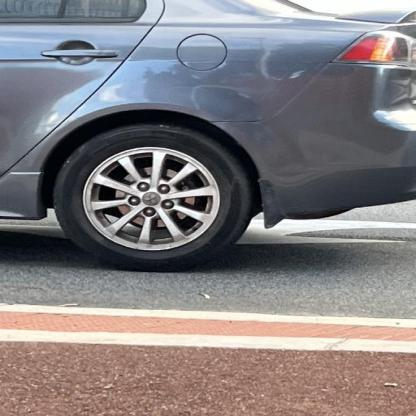Tire: (55, 125, 252, 272)
